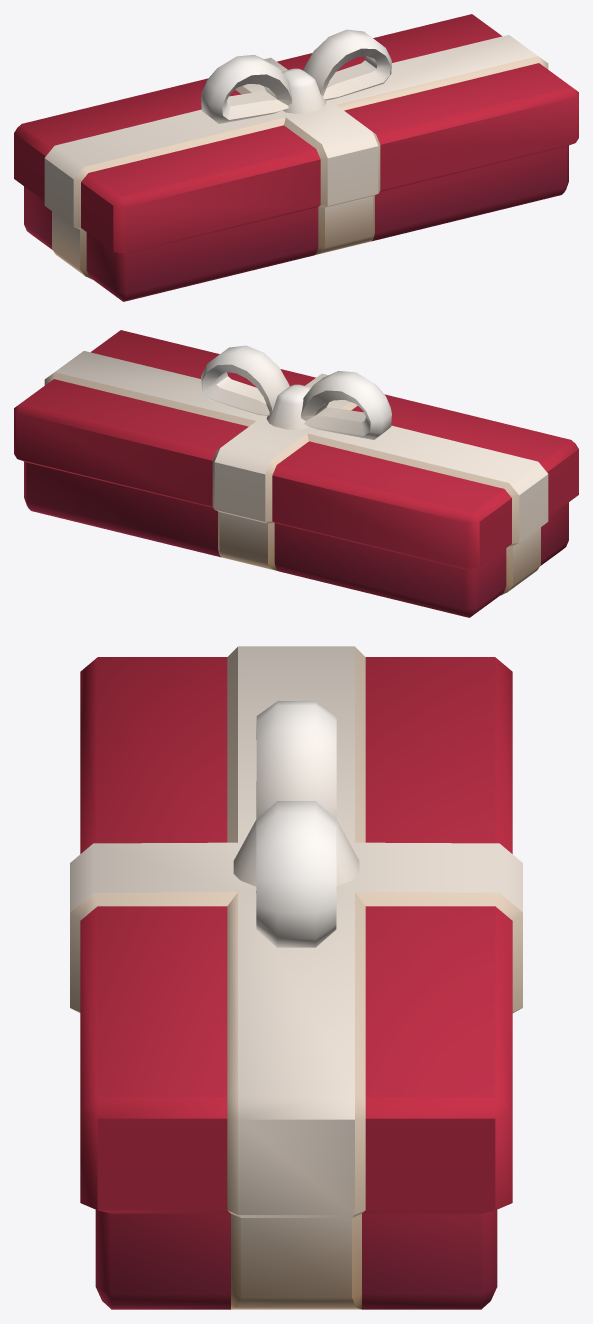
File: present_E_red.obj
3 renders of one model, top to bottom at view 1: azimuth 30°, elevation 25°; view 2: azimuth 150°, elevation 25°; view 3: azimuth 270°, elevation 25°, orthographic. The views are drawn at different scales.
Parts seen in each view (by area): view 1: present_E_red; view 2: present_E_red; view 3: present_E_red.
Boxes of the visible parts, <box> form: present_E_red: <box>14,14,578,301</box>; present_E_red: <box>14,330,578,617</box>; present_E_red: <box>70,646,522,1309</box>.
Size of the model in its own units: 1.36 by 0.4617 by 0.5638.
1 material, 1 textured.
